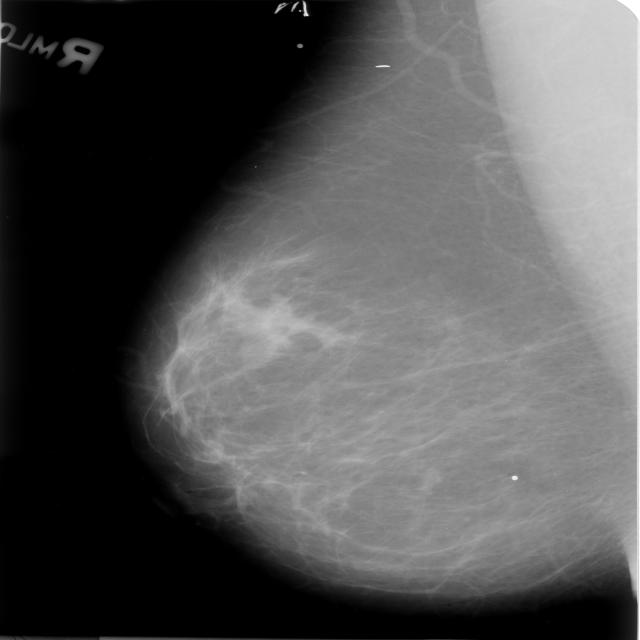normal: (134, 0, 640, 602)
